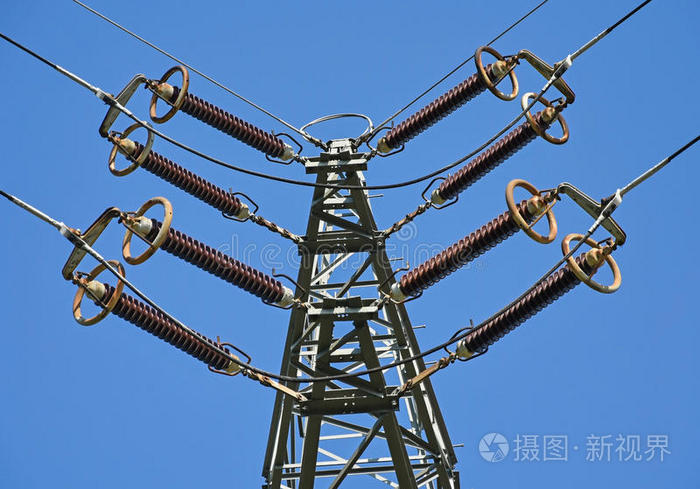insulator: (466, 258, 597, 354), (398, 204, 535, 293), (102, 286, 235, 373), (146, 225, 285, 305), (384, 69, 500, 148), (438, 115, 549, 197), (165, 87, 288, 159), (127, 145, 244, 218)
